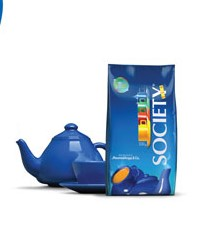society: (107, 65, 177, 196)
